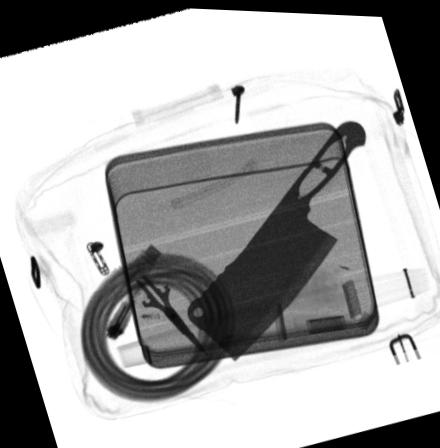Knife: (188, 117, 366, 359)
Scissors: (116, 251, 209, 356)
